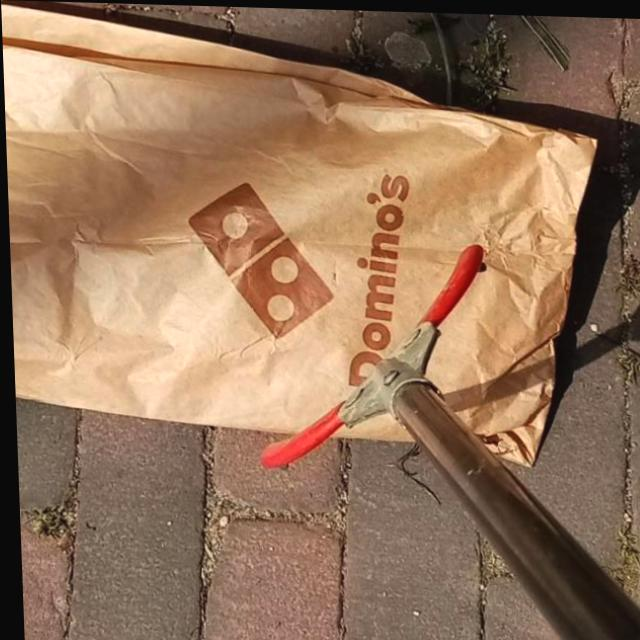Paper: (0, 3, 606, 468)
